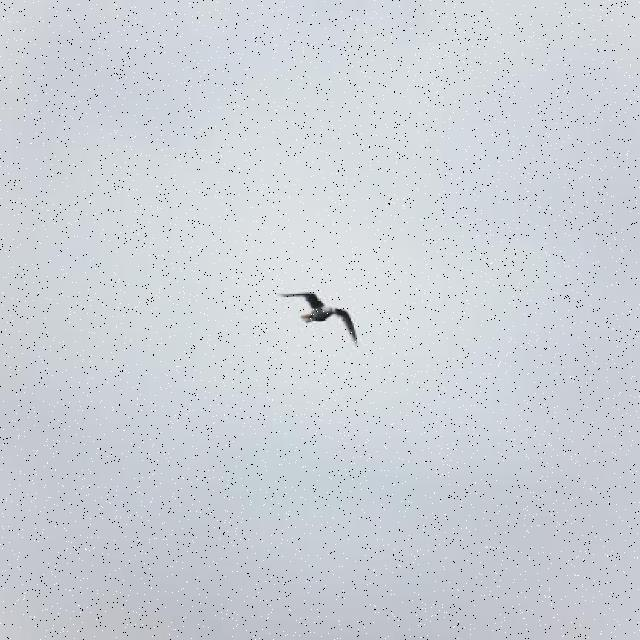bird: (278, 292, 358, 348)
